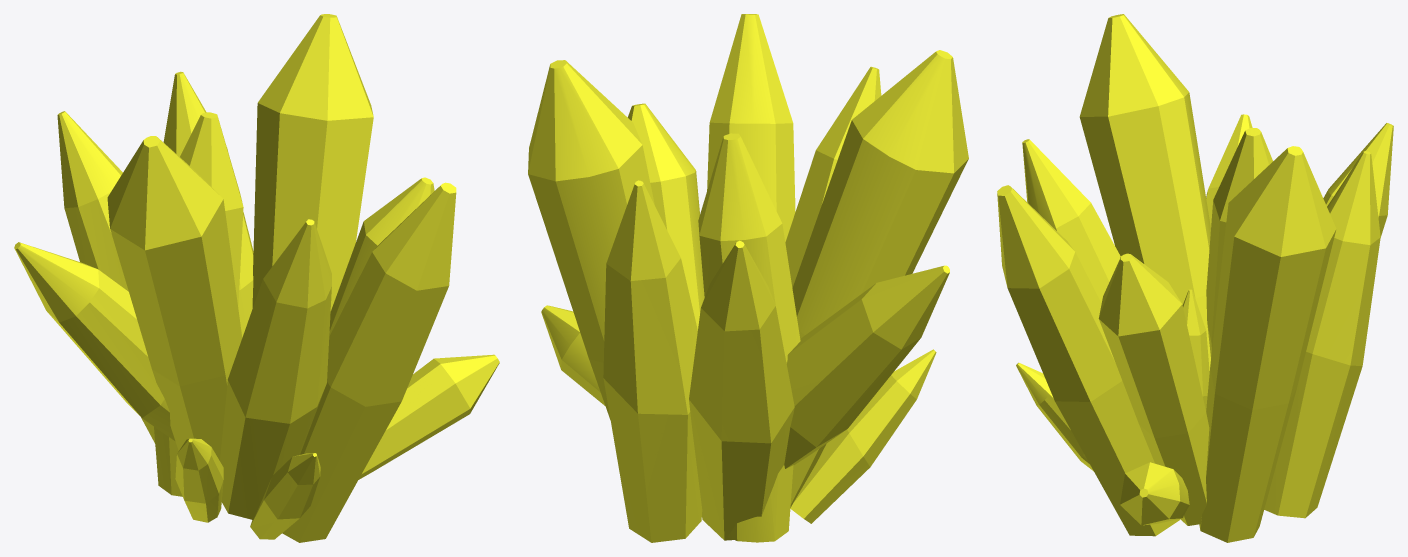
The model's file is Crystal_Bunch_Yellow.fbx.
3 views of the same model, side by side, from view 1: azimuth 30°, elevation 25°; view 2: azimuth 150°, elevation 25°; view 3: azimuth 270°, elevation 25° (orthographic). The views are drawn at different scales.
Parts seen in each view (by area): view 1: Model; view 2: Model; view 3: Model.
Part boxes in pixels (left/top/right/bottom): Model: left=14, top=14, right=499, bottom=542; Model: left=528, top=14, right=968, bottom=542; Model: left=997, top=14, right=1393, bottom=542.
Size of the model in its own units: 337 by 335 by 276.
